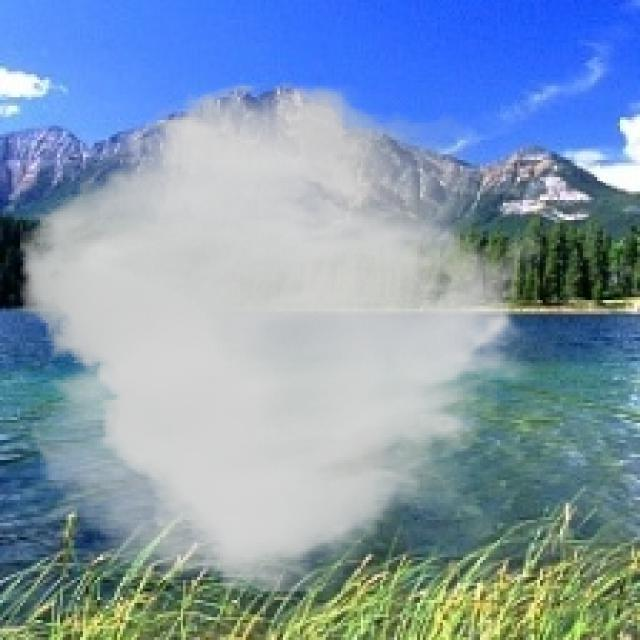Smoke: (20, 77, 549, 592)
